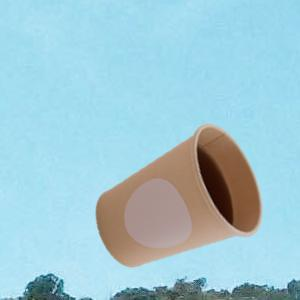cup: (95, 122, 263, 268)
